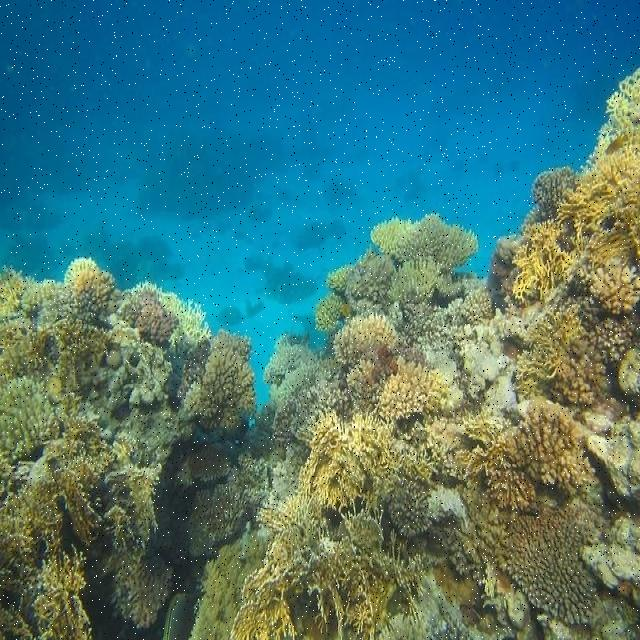reefs: (0, 68, 639, 639)
